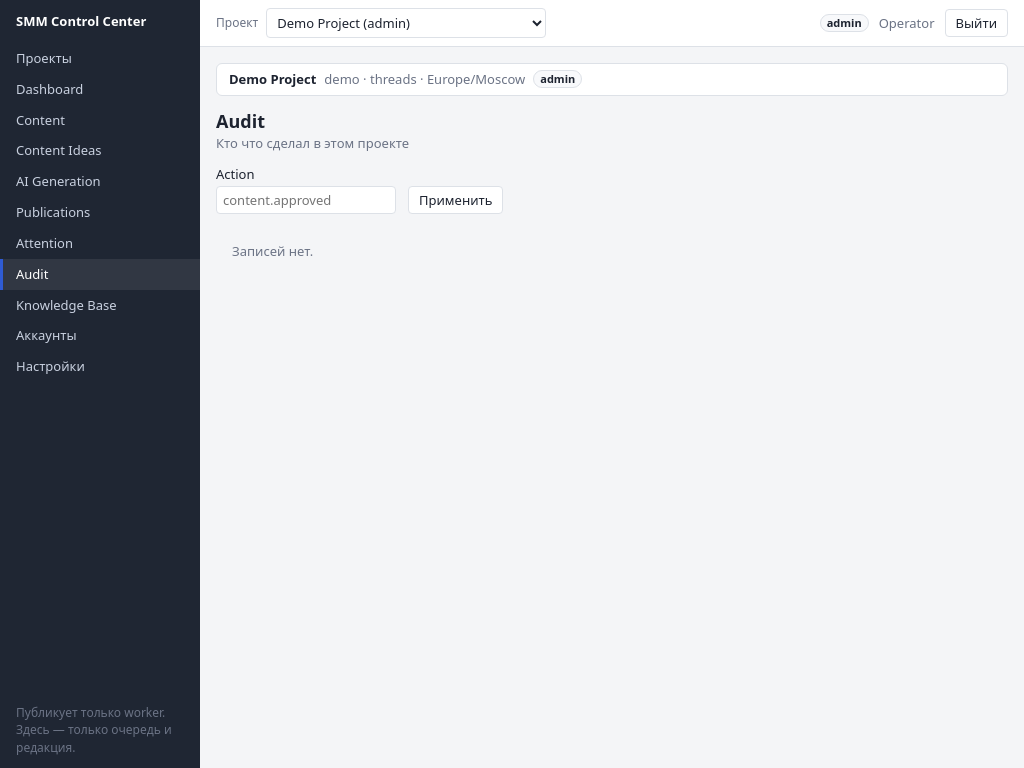
J6 / AC-A2: switching from Audit › goes to the dashboard when the role in the other project cannot read audit
The width and height of the screenshot is (1024, 768).
Expected: the heading "Audit" is shown, [216,109,265,133]
Select "Beta Project (viewer)" in the dropdown named "Project switcher" at (406, 23), box [266,8,546,38]
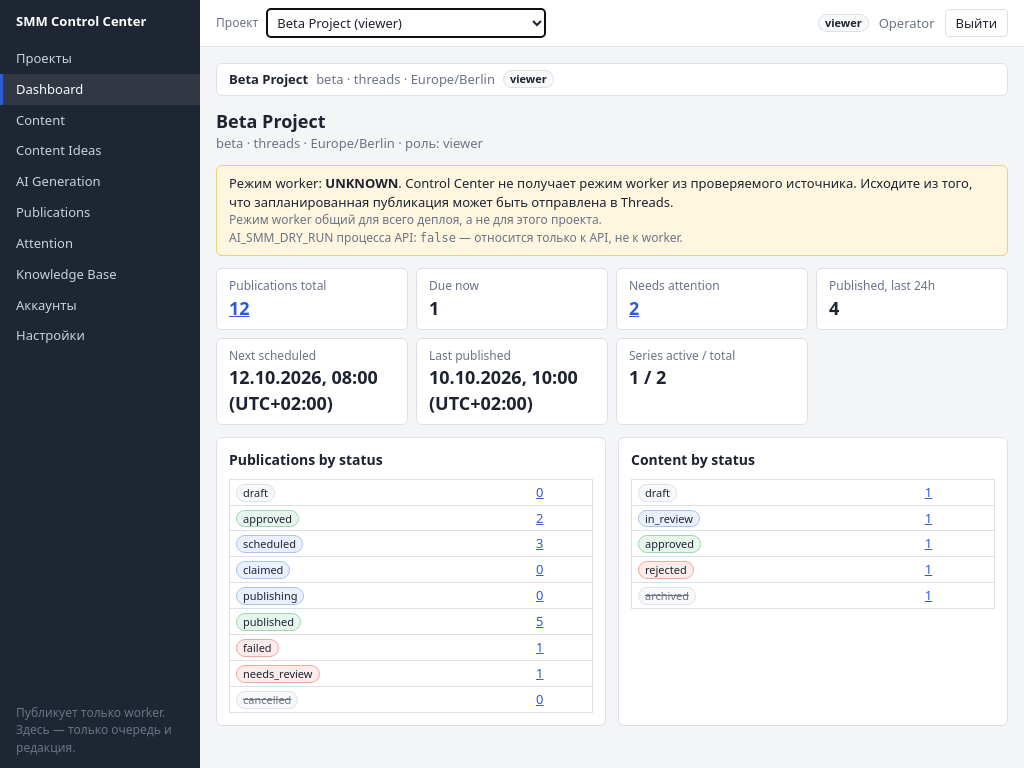
Expected: the heading "Beta Project" is shown, [216,109,326,133]
Expected: the link "Audit" is gone
